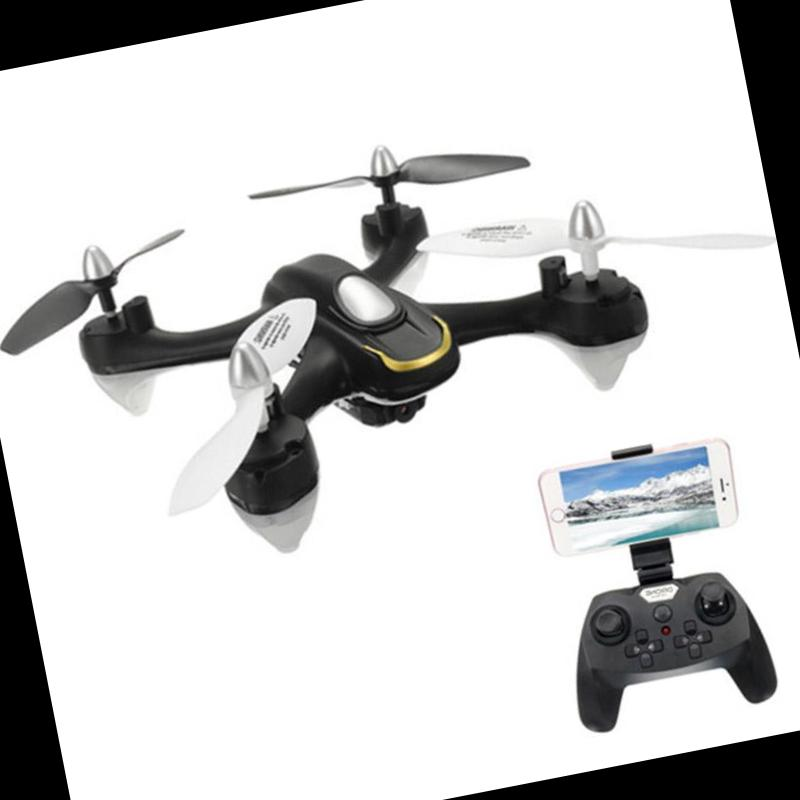drone: (0, 80, 797, 610)
